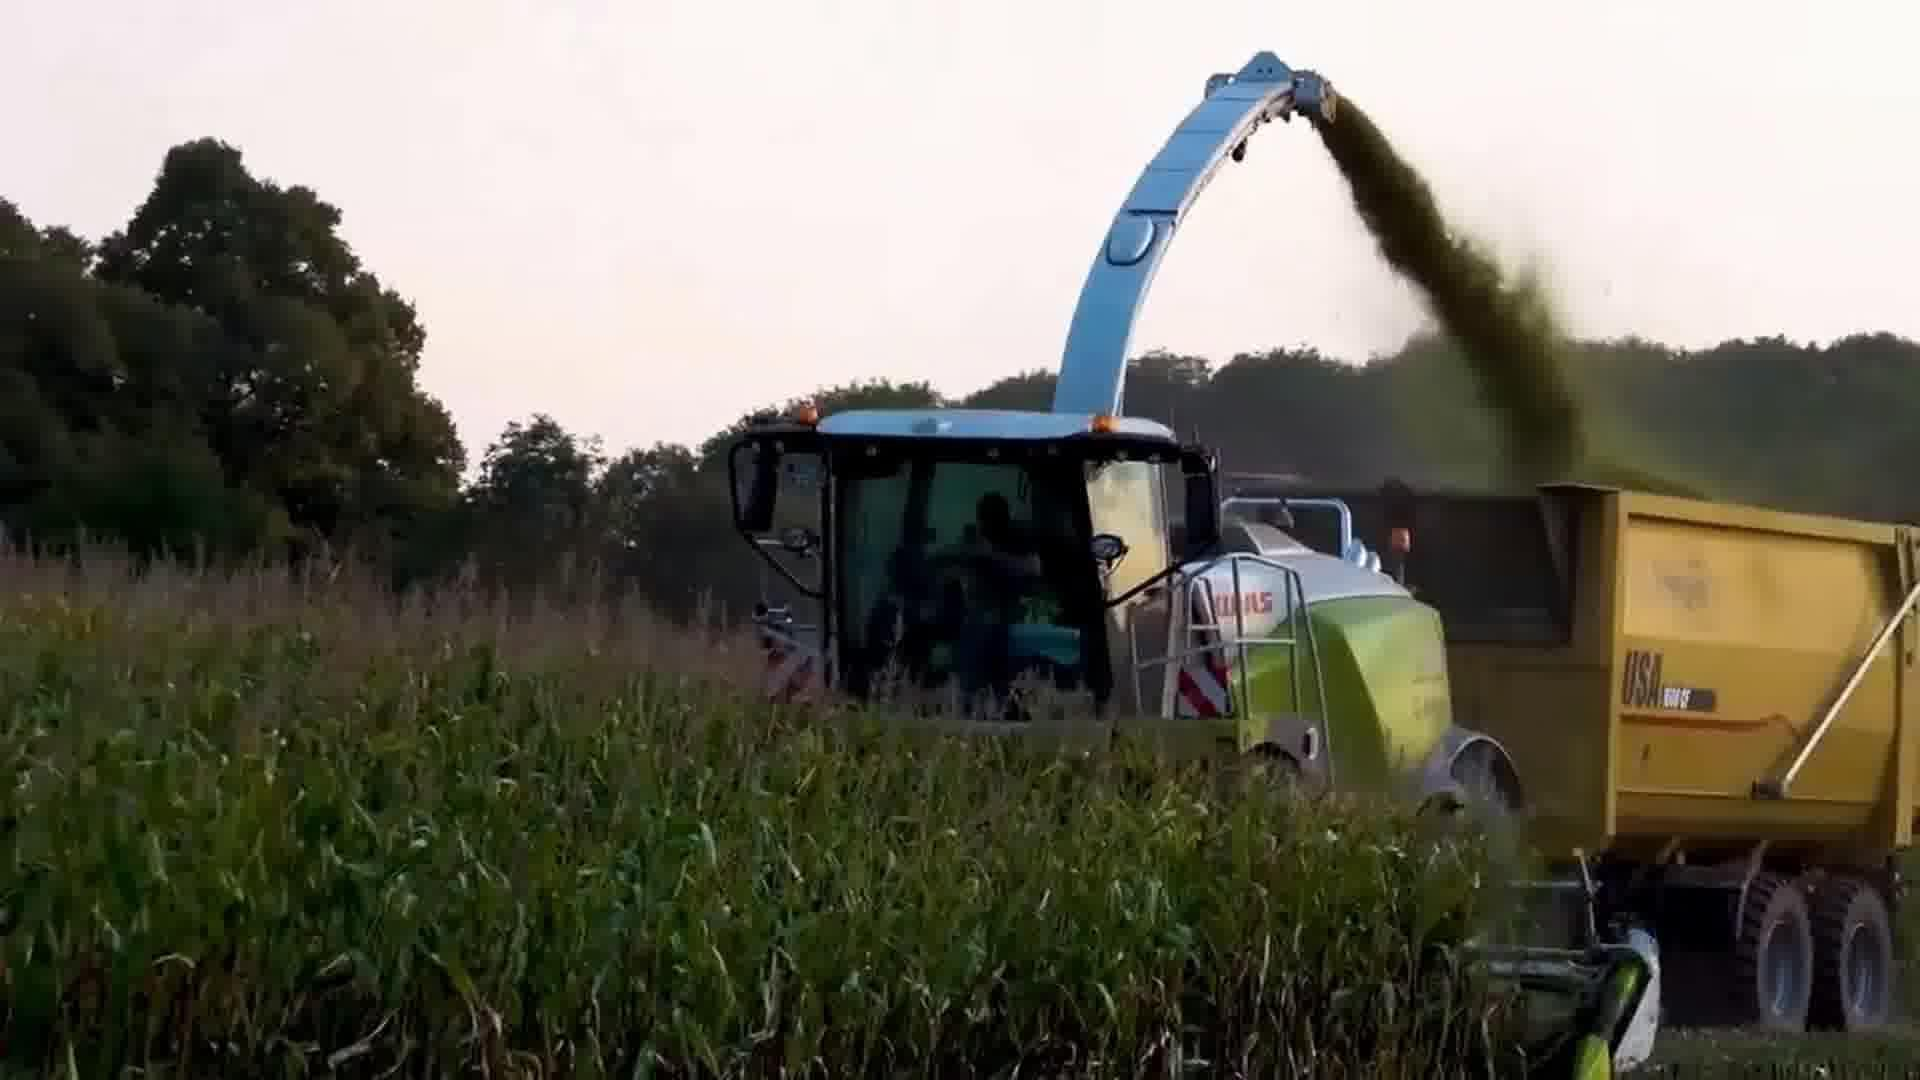combine harvester: (717, 47, 1680, 1080)
trailer: (1162, 477, 1920, 1036)
